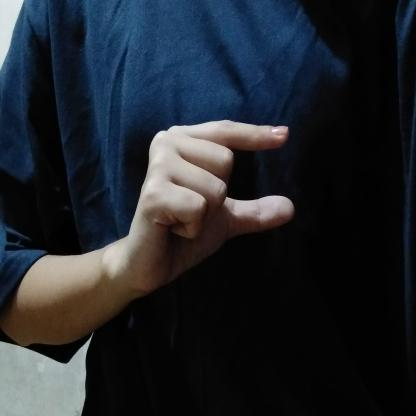small: (124, 112, 317, 302)
